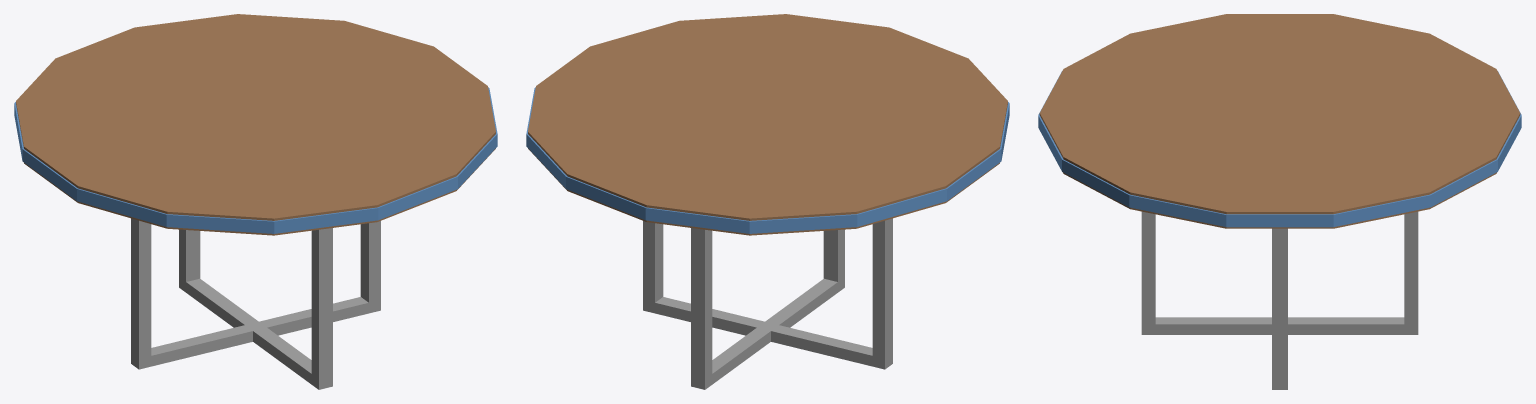
File: Int_Table02.fbx
The picture shows the model from 3 angles, left to right: view 1: azimuth 30°, elevation 25°; view 2: azimuth 150°, elevation 25°; view 3: azimuth 270°, elevation 25°; orthographic projection.
Visible parts, largest first — view 1: Int_Table02; view 2: Int_Table02; view 3: Int_Table02.
Part boxes in pixels (x1,y1,x2,y2): Int_Table02: [14, 14, 497, 389]; Int_Table02: [526, 14, 1009, 389]; Int_Table02: [1038, 14, 1521, 389].
Size of what is drawn, in the model's own units: 166 by 170 by 84.96.
